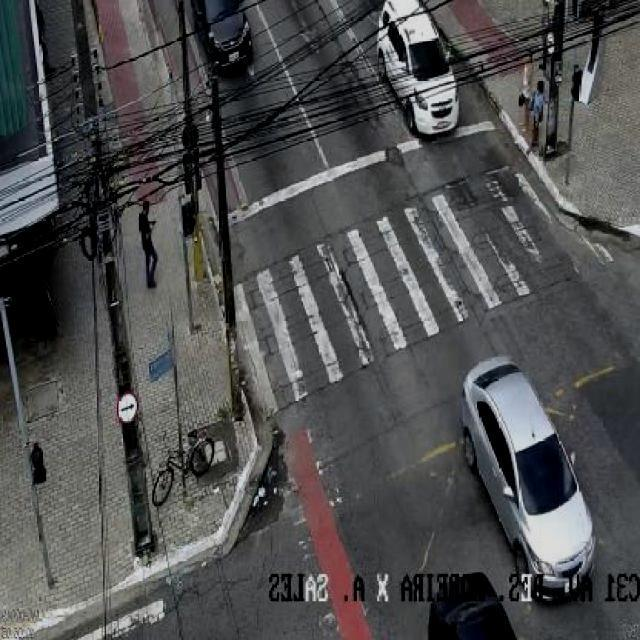Car: (460, 356, 595, 606), (375, 0, 461, 138), (425, 571, 517, 640), (191, 0, 253, 71)
Cycle: (150, 428, 216, 508)
